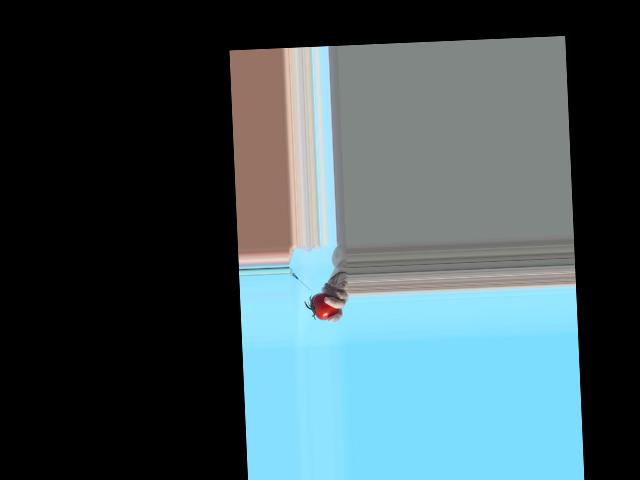tomato: (310, 292, 338, 321)
